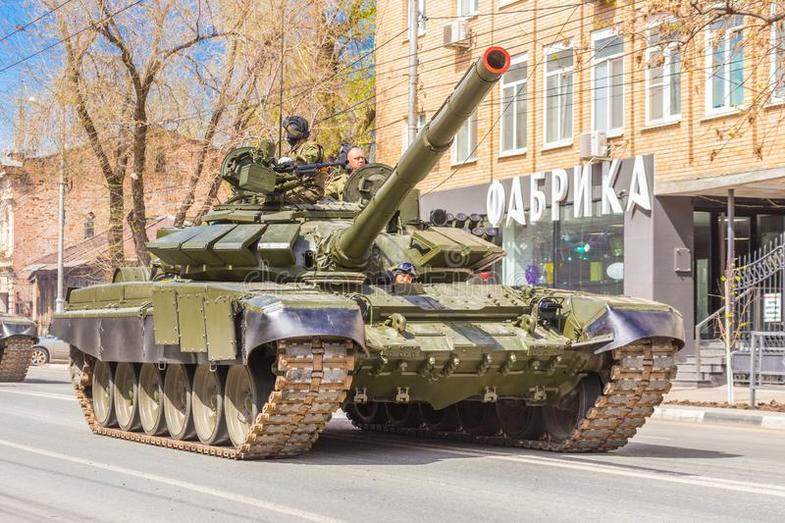t72: (58, 117, 691, 462)
